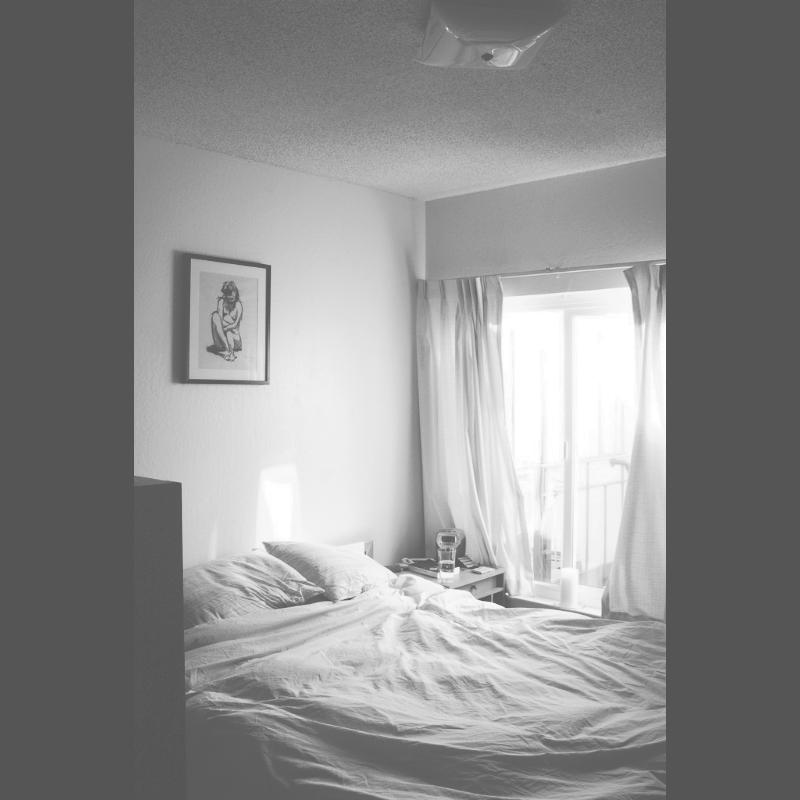pillow: (178, 545, 320, 637), (262, 544, 392, 598)
